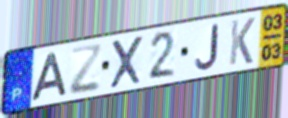2: (146, 29, 179, 85)
A: (30, 50, 69, 103)
J: (193, 23, 219, 72)
K: (227, 16, 257, 68)
X: (108, 33, 145, 91)
Z: (68, 43, 104, 97)
